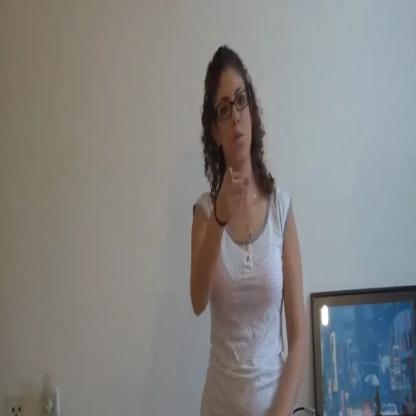HowAreYou: (202, 150, 262, 244)
